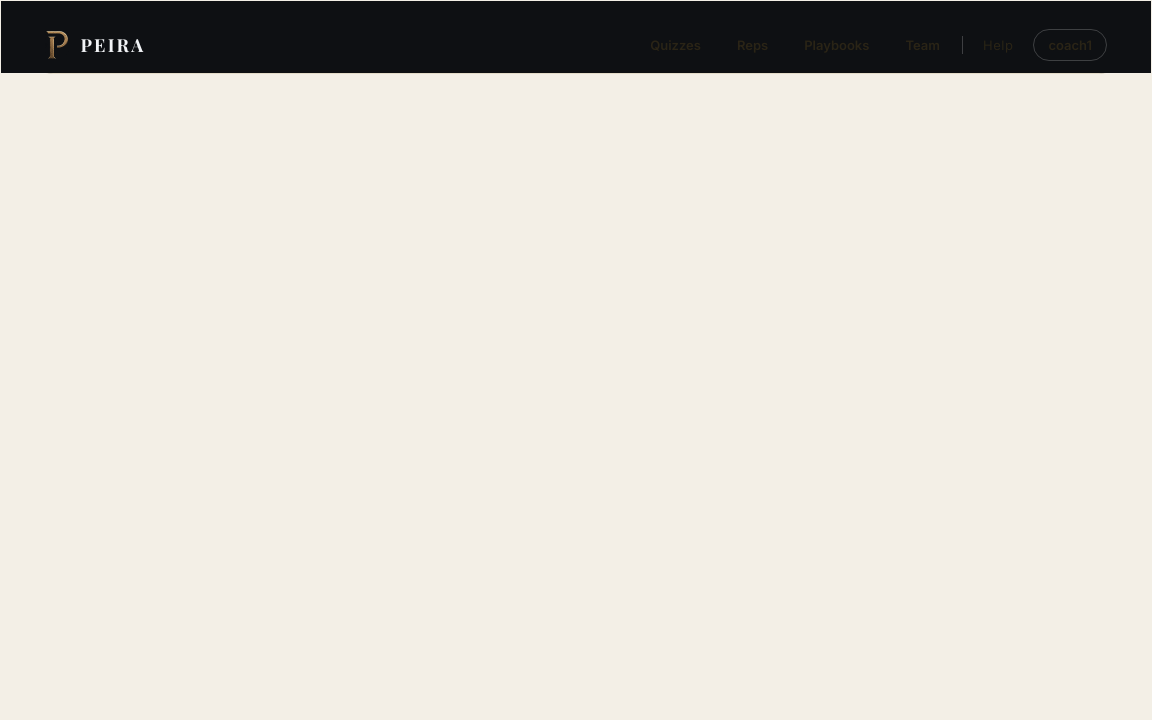
Test: NotebookHeader help › shows Help to a normal coach and to an admin alike
The width and height of the screenshot is (1152, 720).
Expected: the button "Help" is shown, [971, 32, 1025, 58]
Expected: the text "Admin View" is not shown
What coordinates should you click on to do the following:
click the button "coach1"
I would click on:
 (1070, 45)
Its box is [1033, 29, 1107, 61].
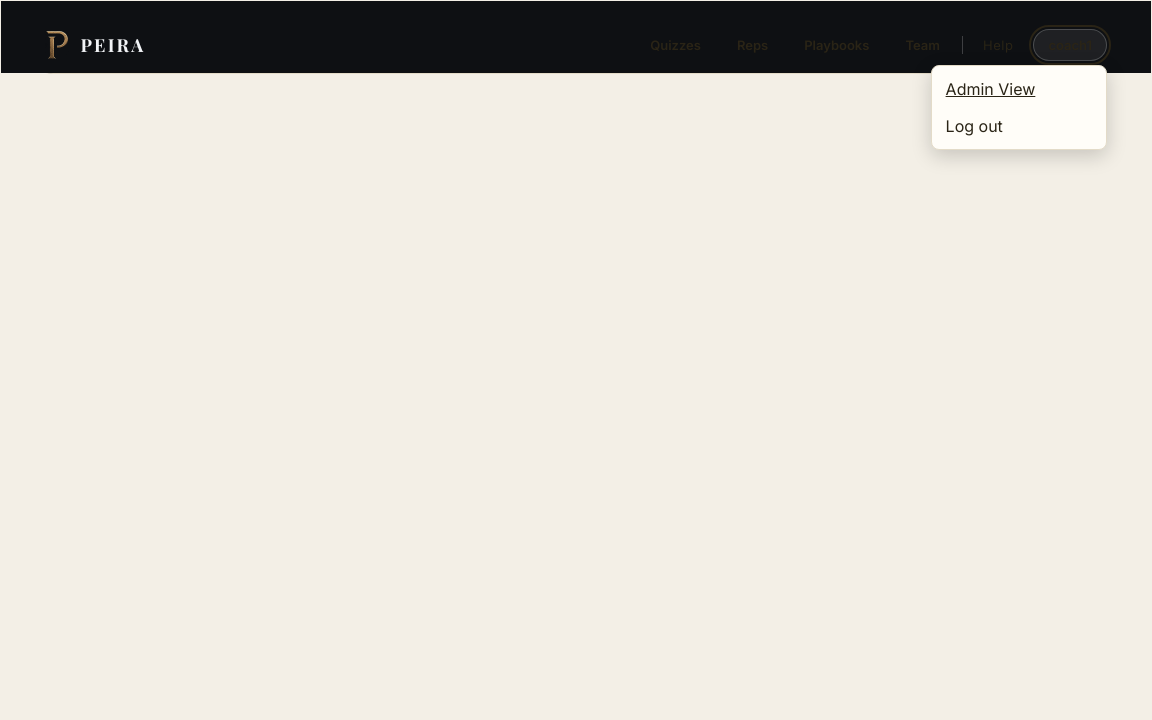
Now the menu item "Admin View" is shown, box [946, 79, 1035, 99]
...but help is not a privilege.
What coordinates should you click on to do the following:
click the button "Help"
I would click on:
 (998, 45)
Its box is [971, 32, 1025, 58].
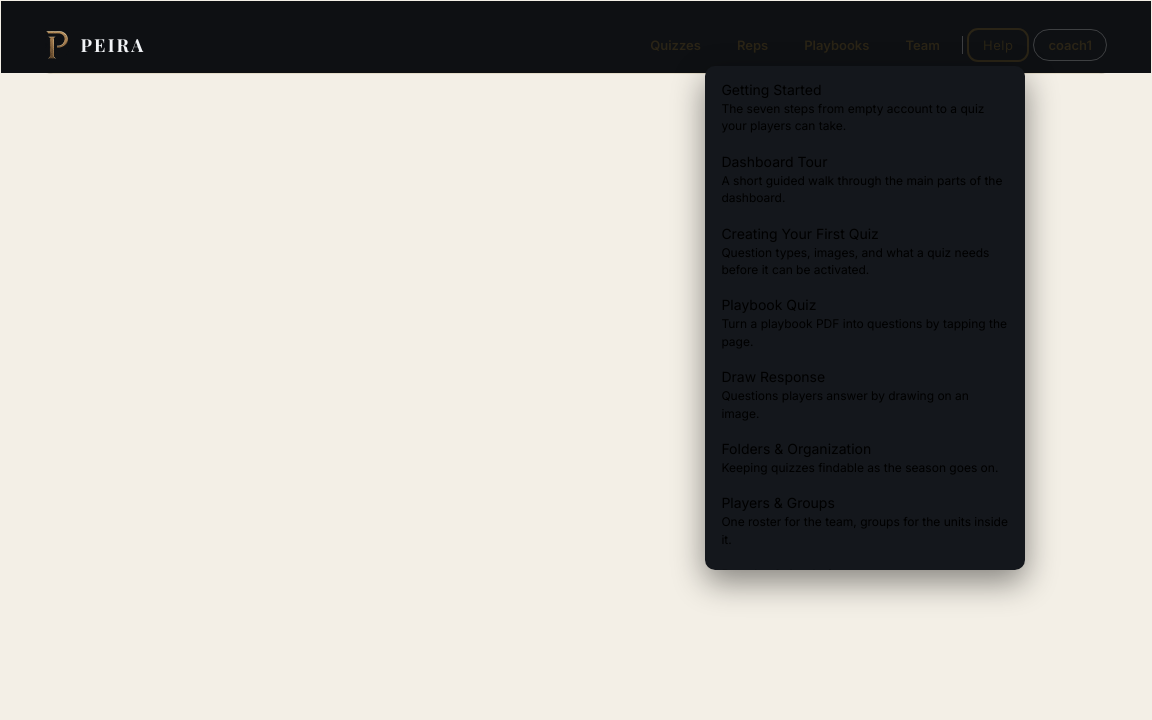
Now the menu named "Help" is shown, box [705, 66, 1025, 570]
